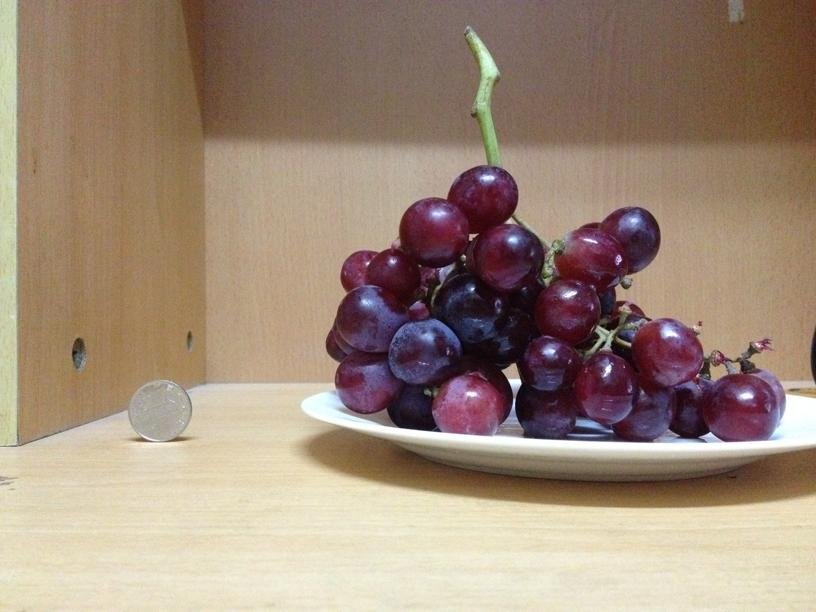coin: (124, 378, 190, 442)
grape: (324, 165, 787, 441)
